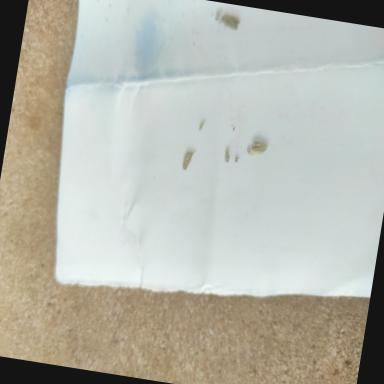pbw: (181, 148, 196, 172), (246, 140, 268, 156), (220, 14, 240, 31), (223, 148, 230, 164)
